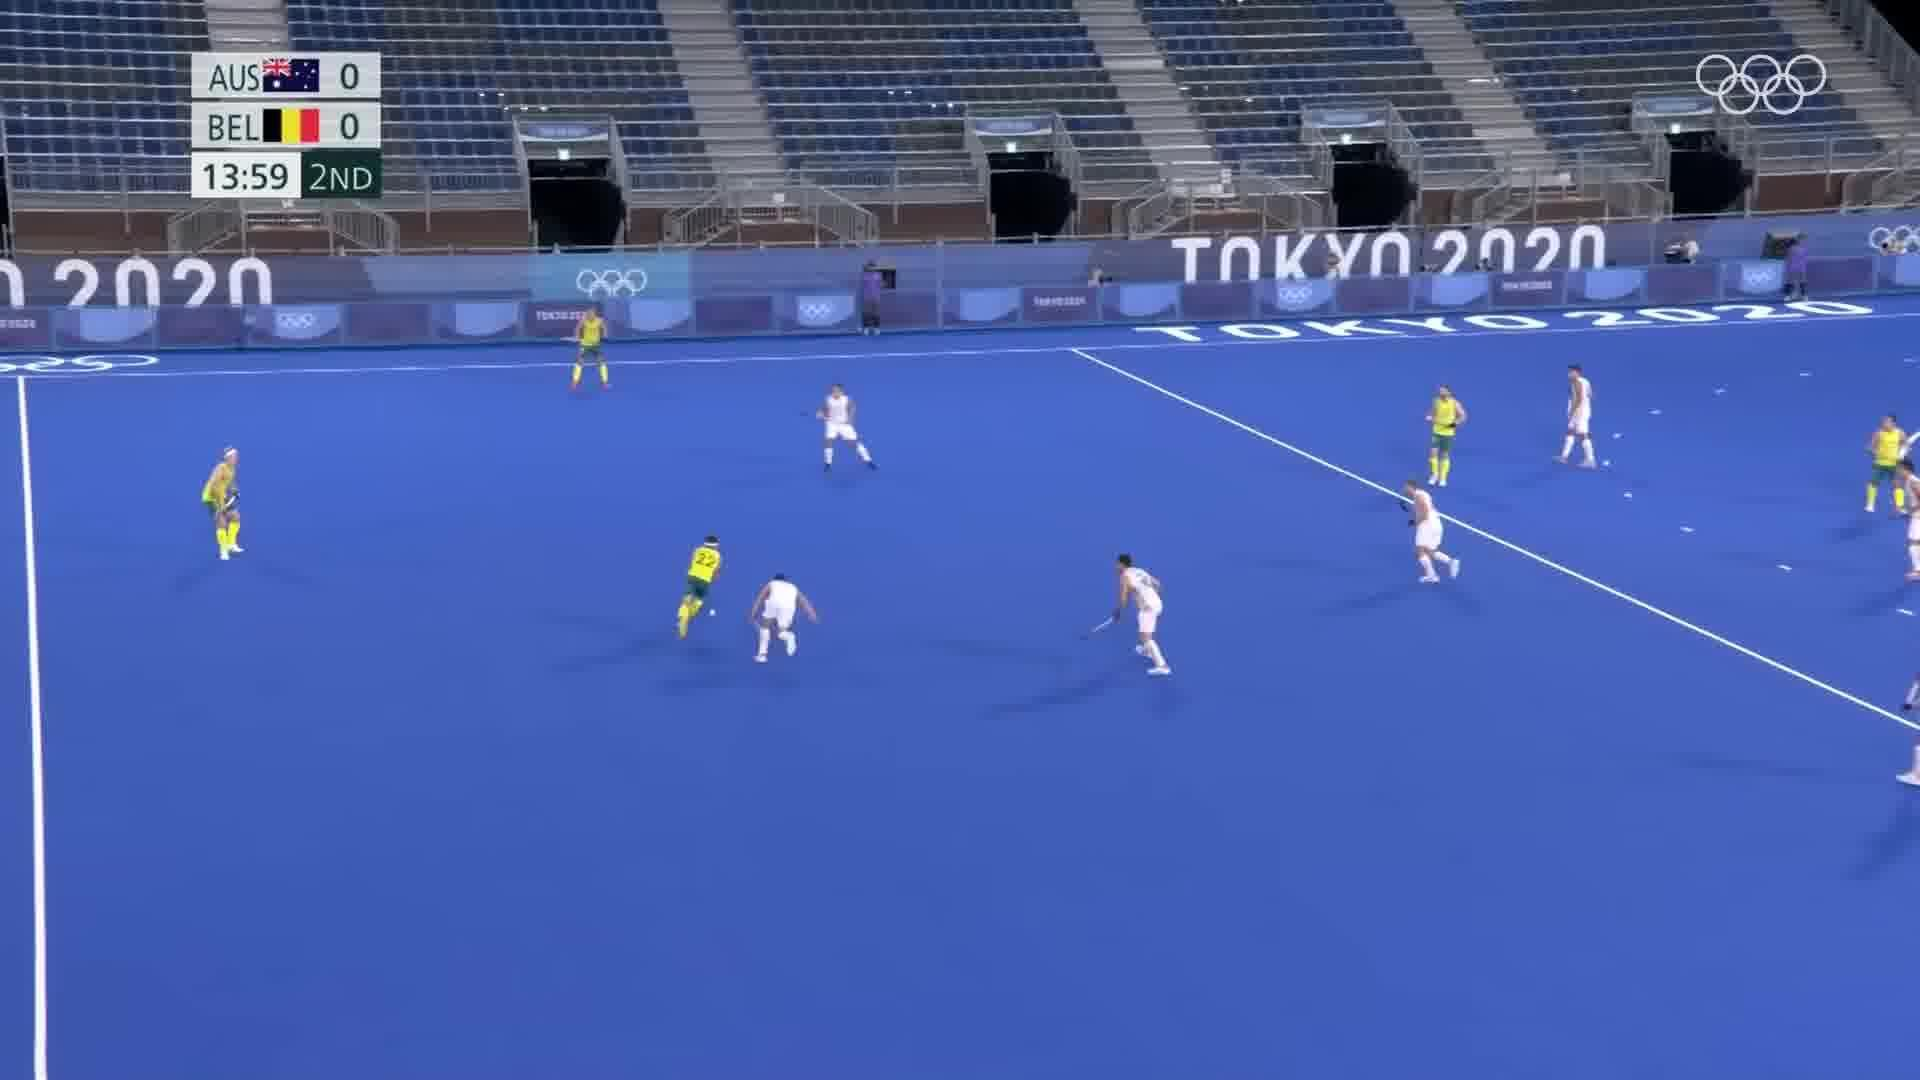ball: (707, 604, 720, 622)
